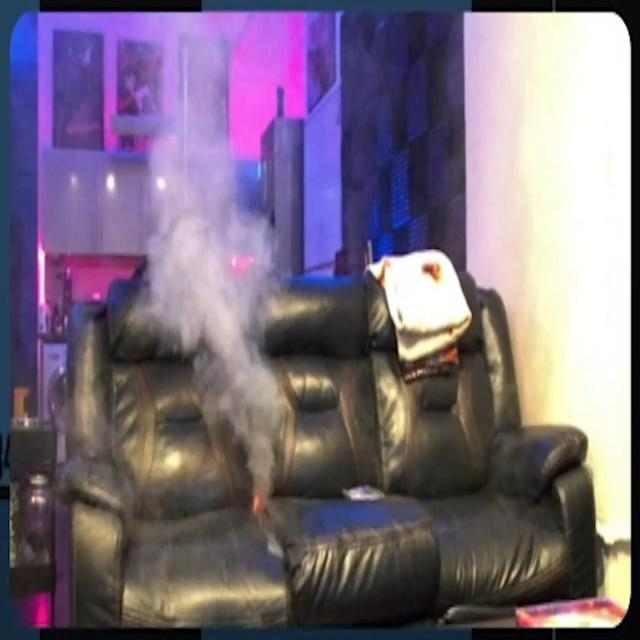Smoke: (152, 57, 298, 467)
